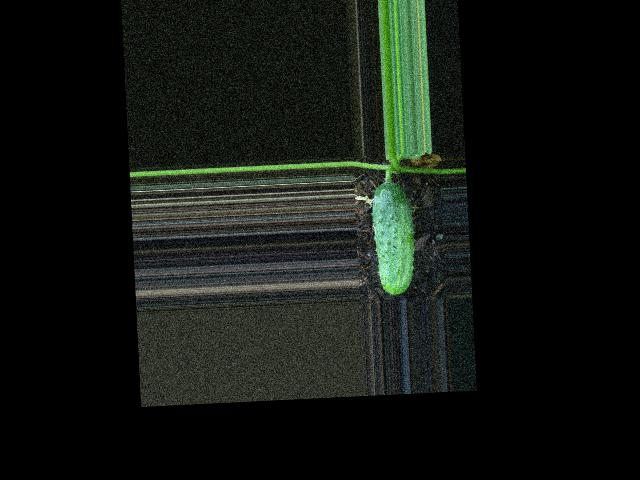cucumber: (370, 181, 417, 296)
